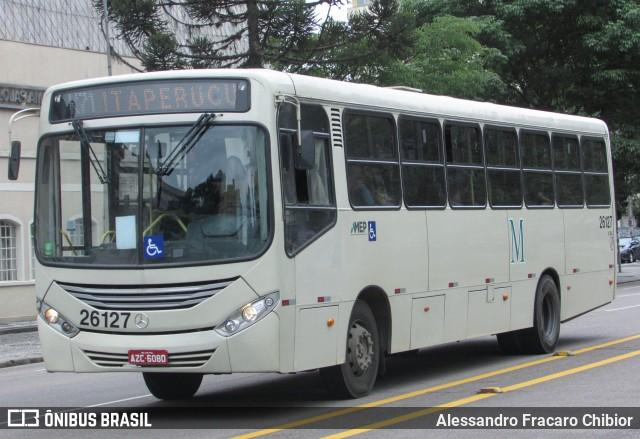ITAPERUCU: (99, 81, 241, 115)
